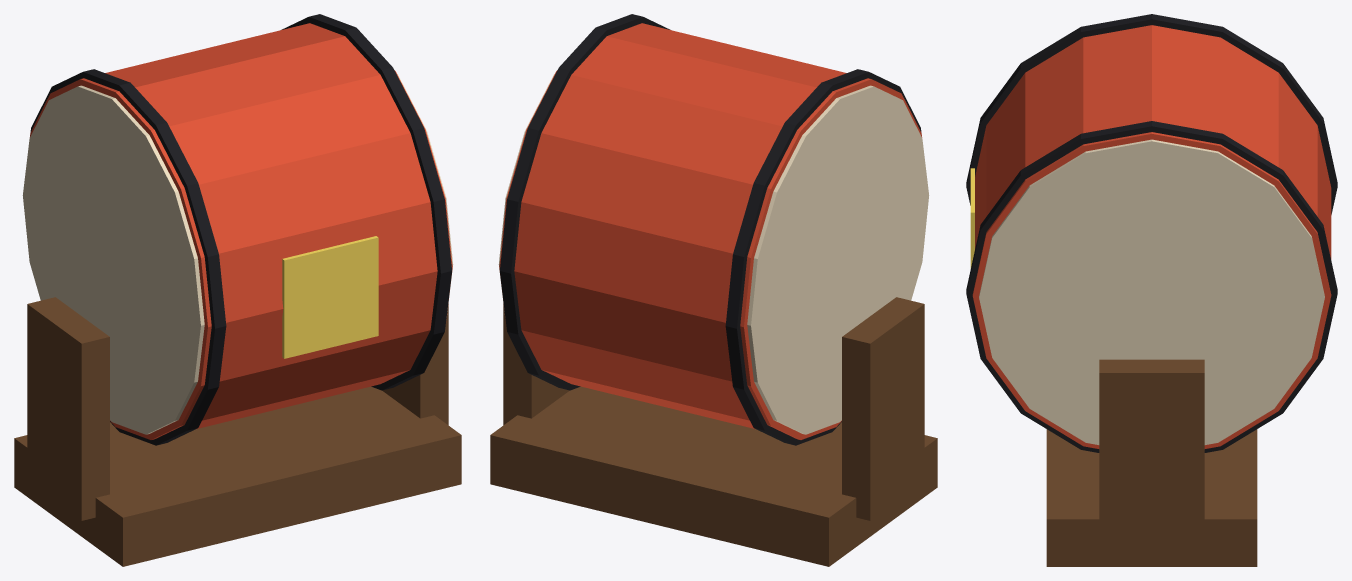
File: p_taiko.glb
3 views of the same model, side by side, from view 1: azimuth 30°, elevation 25°; view 2: azimuth 150°, elevation 25°; view 3: azimuth 270°, elevation 25° (orthographic). The views are drawn at different scales.
Parts seen in each view (by area): view 1: taiko; view 2: taiko; view 3: taiko.
Part boxes in pixels (x1,y1,x2,y2): taiko: (14,14,461,566); taiko: (490,14,937,566); taiko: (966,14,1337,566).
Size of the model in its own units: 1.95 by 2.18 by 1.76.
